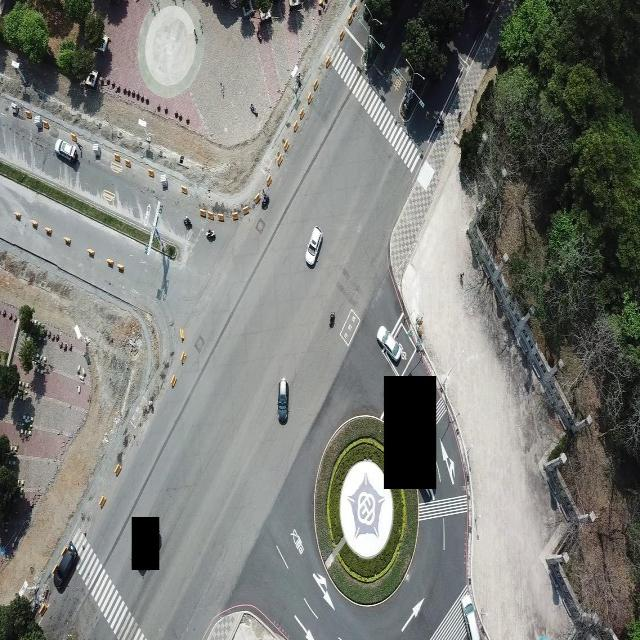bike: (206, 228, 216, 241), (160, 173, 168, 189), (183, 215, 191, 229)
car: (52, 540, 78, 590), (377, 325, 402, 365), (461, 595, 480, 639), (305, 226, 323, 268), (54, 137, 78, 164), (277, 377, 289, 424)
